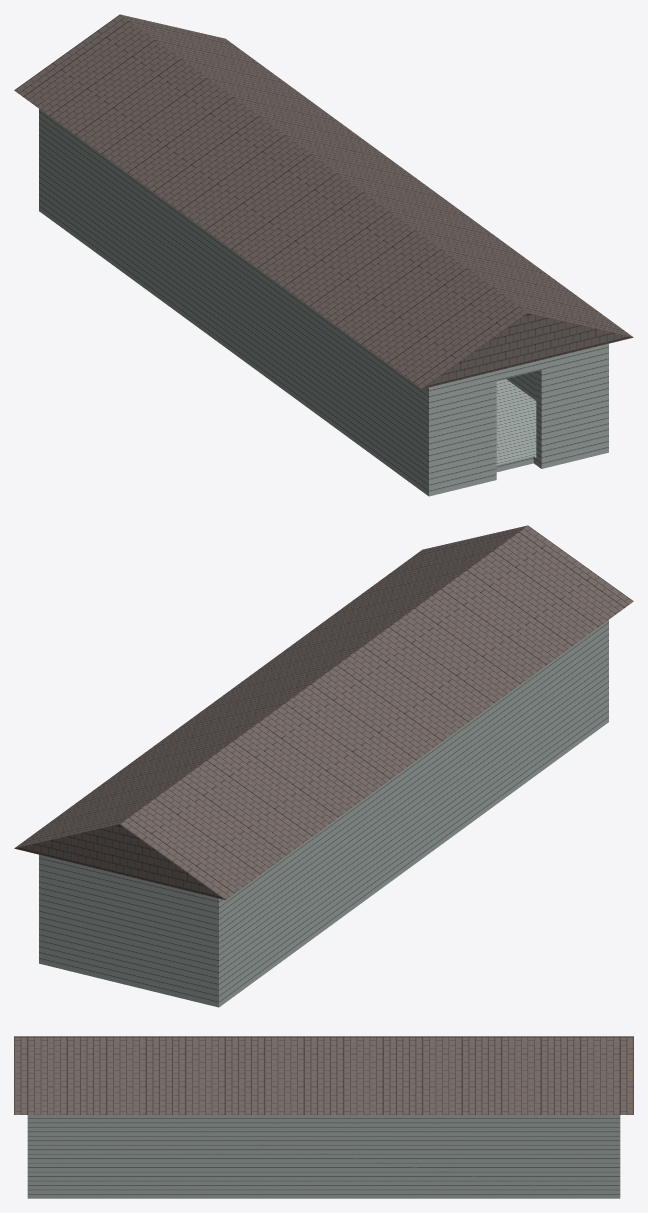
File: shotgun.glb
3 renders of one model, top to bottom at view 1: azimuth 30°, elevation 25°; view 2: azimuth 150°, elevation 25°; view 3: azimuth 270°, elevation 25°, orthographic. The views are drawn at different scales.
Visible parts, largest first — view 1: shotgun-col; view 2: shotgun-col; view 3: shotgun-col.
Boxes of the visible parts, box(x1,y1,x2,y2) form: shotgun-col: box(14, 14, 633, 496); shotgun-col: box(14, 525, 633, 1007); shotgun-col: box(14, 1036, 633, 1198).
Size of the model in its own units: 4.7 by 3.56 by 15.7.
Materials: 2 (2 with a texture image).
